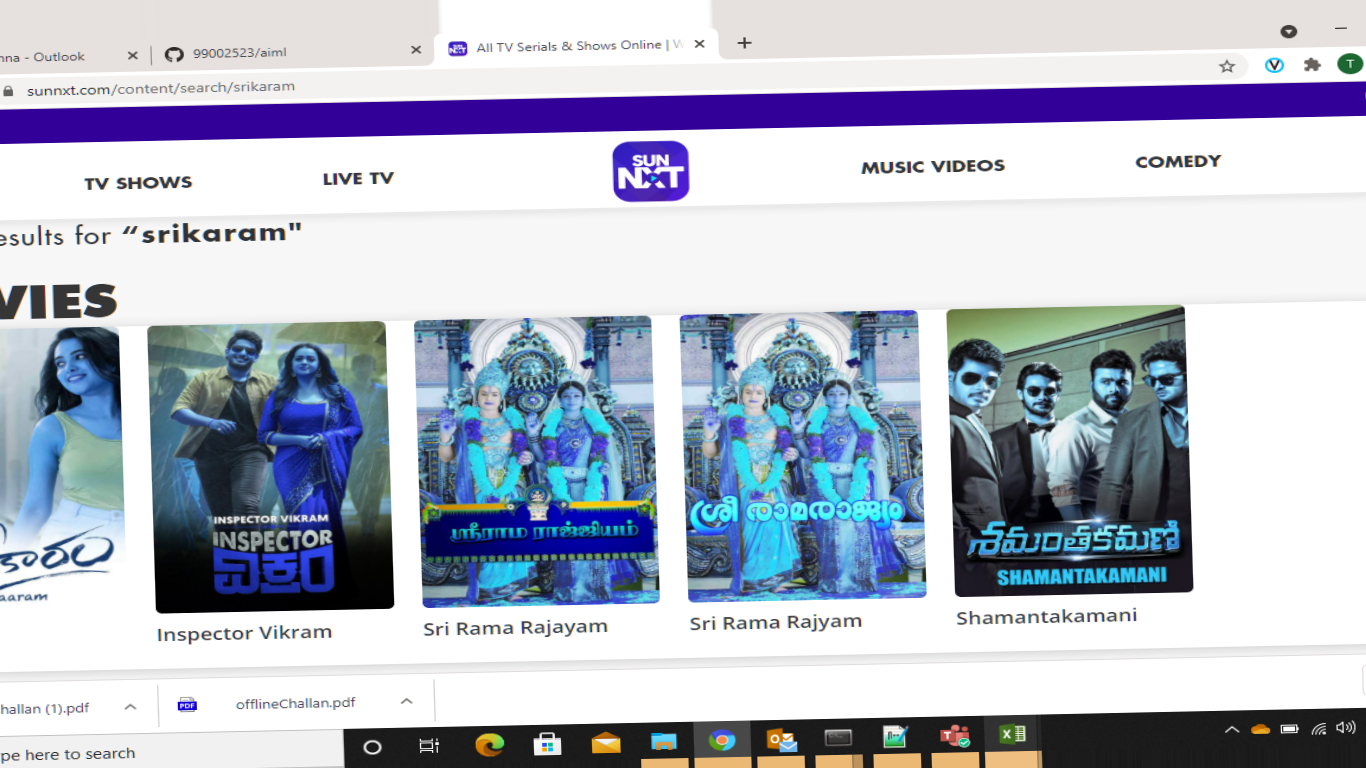resultsfound: (1, 217, 316, 267)
